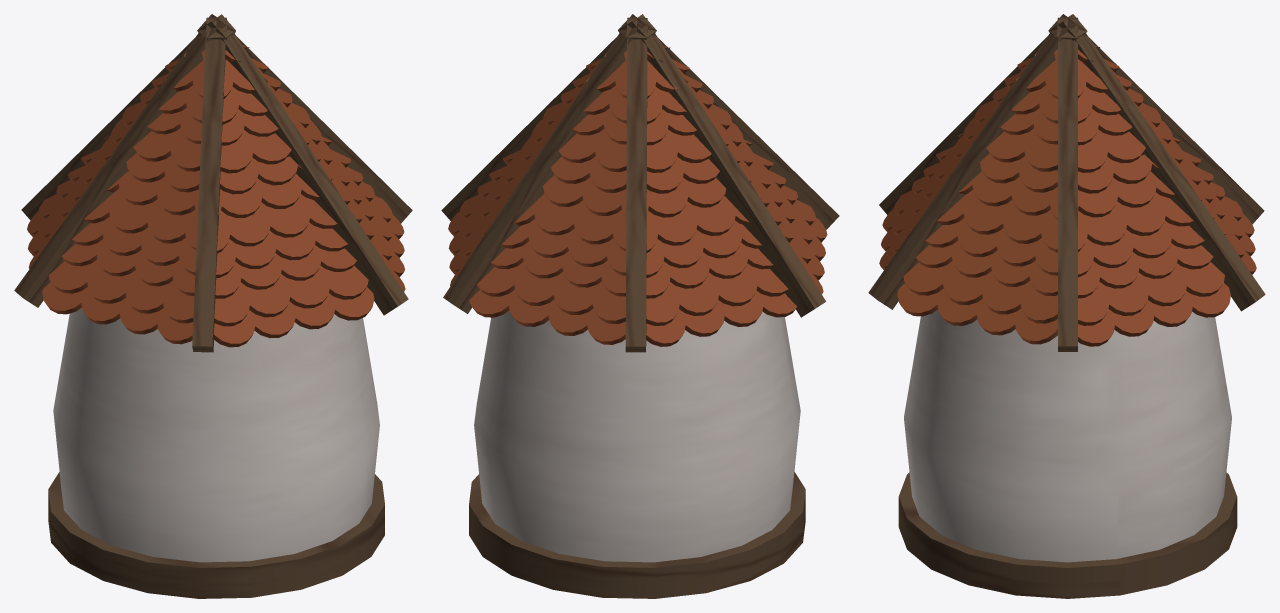
File: Tower1.fbx
3 renders of one model, left to right at view 1: azimuth 30°, elevation 25°; view 2: azimuth 150°, elevation 25°; view 3: azimuth 270°, elevation 25°, orthographic.
Visible parts, largest first — view 1: polySurface932; view 2: polySurface932; view 3: polySurface932.
Boxes of the visible parts, x1,y1,x2,y2 form: polySurface932: (14,14,412,598); polySurface932: (441,14,839,598); polySurface932: (868,14,1265,598).
Size of the model in its own units: 1.1 by 1.4 by 0.9878.
